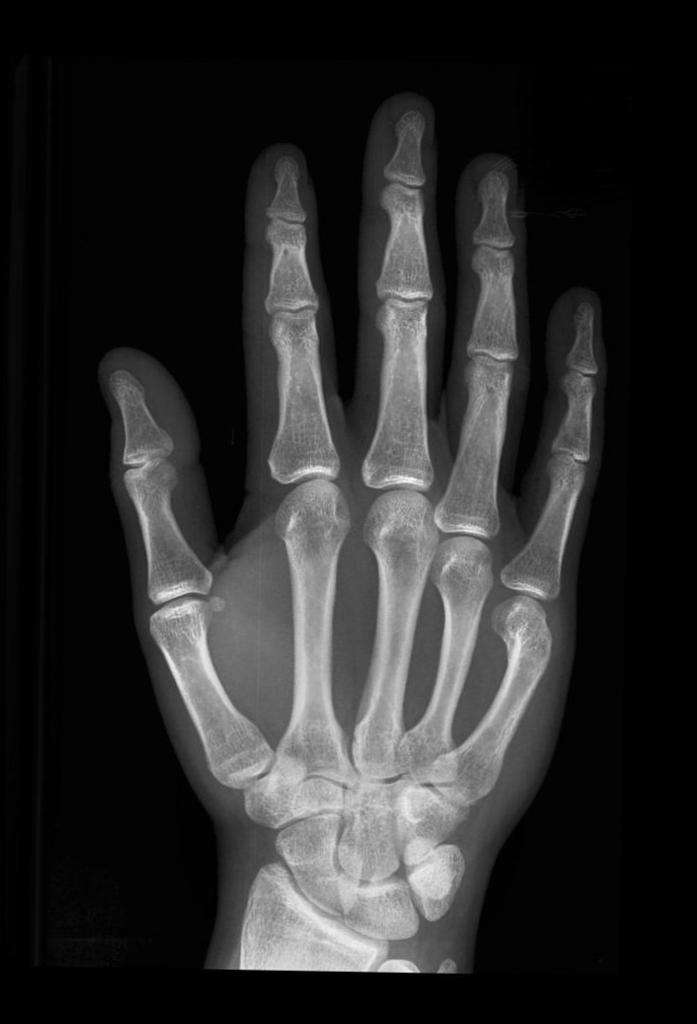fracture: (378, 300, 429, 376), (500, 610, 552, 660)
